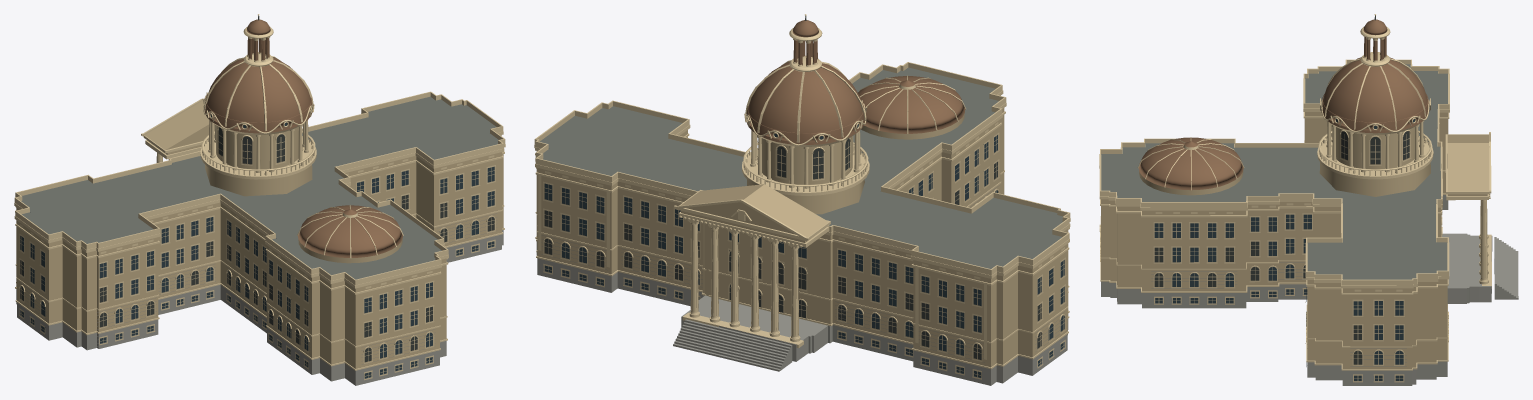
Rendered from alberta-legislature-building-near.glb.
3 renders of one model, left to right at view 1: azimuth 30°, elevation 25°; view 2: azimuth 150°, elevation 25°; view 3: azimuth 270°, elevation 25°, orthographic. The views are drawn at different scales.
Visible parts, largest first — view 1: alberta-legislature-building-0-stone, alberta-legislature-building-0-trim, alberta-legislature-building-0-roof, alberta-legislature-building-0-terra, alberta-legislature-building-0-granite, alberta-legislature-building-0-glass, alberta-legislature-building-0-light; view 2: alberta-legislature-building-0-stone, alberta-legislature-building-0-trim, alberta-legislature-building-0-roof, alberta-legislature-building-0-granite, alberta-legislature-building-0-terra, alberta-legislature-building-0-glass, alberta-legislature-building-0-light; view 3: alberta-legislature-building-0-stone, alberta-legislature-building-0-trim, alberta-legislature-building-0-roof, alberta-legislature-building-0-terra, alberta-legislature-building-0-granite, alberta-legislature-building-0-glass, alberta-legislature-building-0-light.
Part boxes in pixels (box(x1,y1,x2,y2)): alberta-legislature-building-0-stone: box(16, 101, 503, 368); alberta-legislature-building-0-trim: box(14, 14, 505, 380); alberta-legislature-building-0-roof: box(21, 96, 498, 279); alberta-legislature-building-0-terra: box(205, 19, 402, 257); alberta-legislature-building-0-granite: box(16, 213, 503, 385); alberta-legislature-building-0-glass: box(20, 110, 494, 378); alberta-legislature-building-0-light: box(20, 127, 494, 362); alberta-legislature-building-0-stone: box(536, 108, 1068, 367); alberta-legislature-building-0-trim: box(534, 14, 1070, 379); alberta-legislature-building-0-roof: box(540, 67, 1062, 268); alberta-legislature-building-0-granite: box(536, 185, 1068, 385); alberta-legislature-building-0-terra: box(746, 20, 965, 144); alberta-legislature-building-0-glass: box(544, 120, 1064, 377); alberta-legislature-building-0-light: box(544, 138, 1041, 359); alberta-legislature-building-0-stone: box(1101, 112, 1489, 368); alberta-legislature-building-0-trim: box(1099, 14, 1491, 382); alberta-legislature-building-0-roof: box(1101, 64, 1447, 279); alberta-legislature-building-0-terra: box(1138, 19, 1429, 190); alberta-legislature-building-0-granite: box(1101, 195, 1518, 385); alberta-legislature-building-0-glass: box(1154, 119, 1414, 380); alberta-legislature-building-0-light: box(1154, 131, 1409, 364).
Bounding box in the file's own units: 103 × 57 × 82.78.
